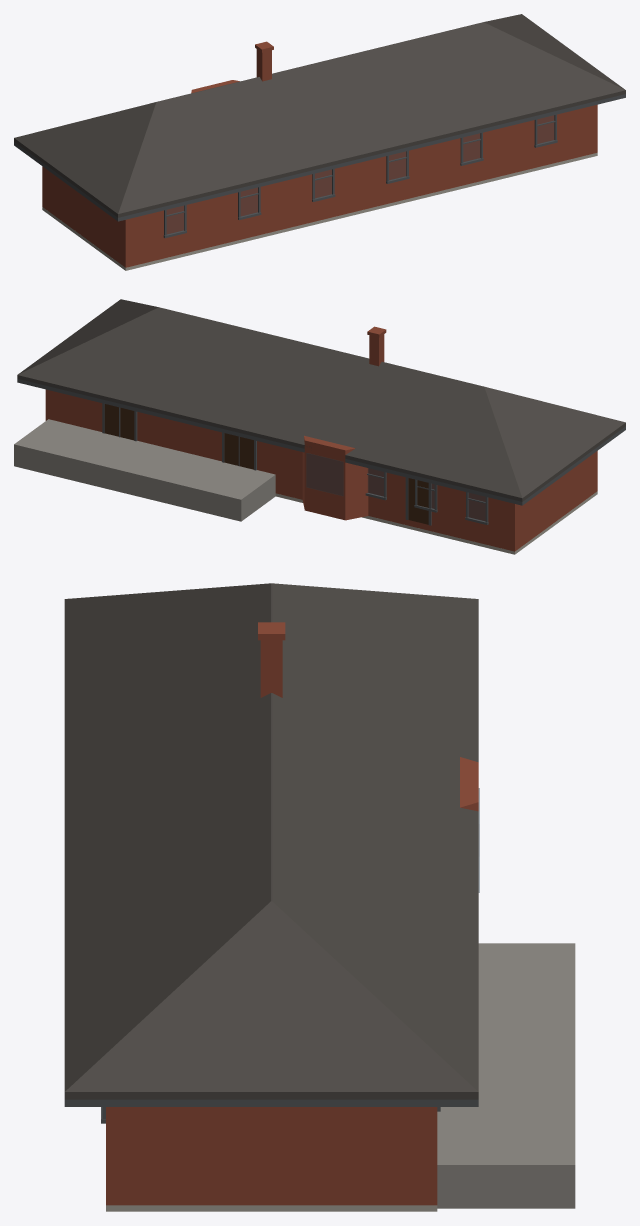
Rendered from Muscoda_Depot.glb.
The picture shows the model from 3 angles, top to bottom: view 1: azimuth 30°, elevation 25°; view 2: azimuth 150°, elevation 25°; view 3: azimuth 270°, elevation 25°; orthographic projection. The views are drawn at different scales.
Parts seen in each view (by area): view 1: roof, brick, trim, glass, foundation, sash, chimney; view 2: roof, brick, platform, trim, doors, glass, foundation, sash, chimney; view 3: roof, brick, platform, trim, foundation, chimney.
Boxes of the visible parts, x1,y1,x2,y2 form: roof: [14, 14, 625, 217]; brick: [42, 80, 597, 267]; trim: [14, 94, 625, 221]; glass: [167, 115, 554, 234]; foundation: [42, 152, 597, 270]; sash: [163, 114, 557, 238]; chimney: [255, 41, 273, 81]; roof: [17, 299, 625, 501]; brick: [45, 389, 597, 551]; platform: [14, 419, 275, 521]; trim: [17, 379, 625, 525]; doors: [104, 404, 428, 524]; glass: [306, 453, 485, 521]; foundation: [275, 491, 597, 554]; sash: [365, 472, 488, 524]; chimney: [367, 326, 386, 366]; roof: [64, 583, 478, 1099]; brick: [106, 757, 478, 1205]; platform: [437, 943, 575, 1208]; trim: [64, 1099, 478, 1111]; foundation: [106, 1205, 437, 1211]; chimney: [258, 622, 285, 697].
Size of the model in its own units: 0.8881 by 0.2522 by 0.3889.
